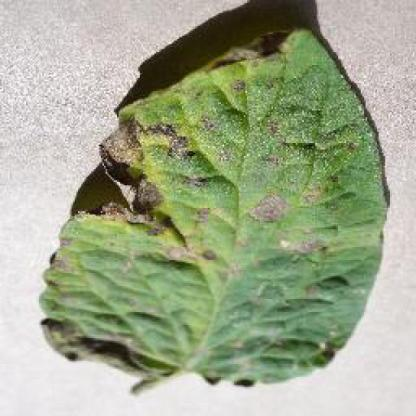Tomato_Blight: (41, 28, 388, 382)
